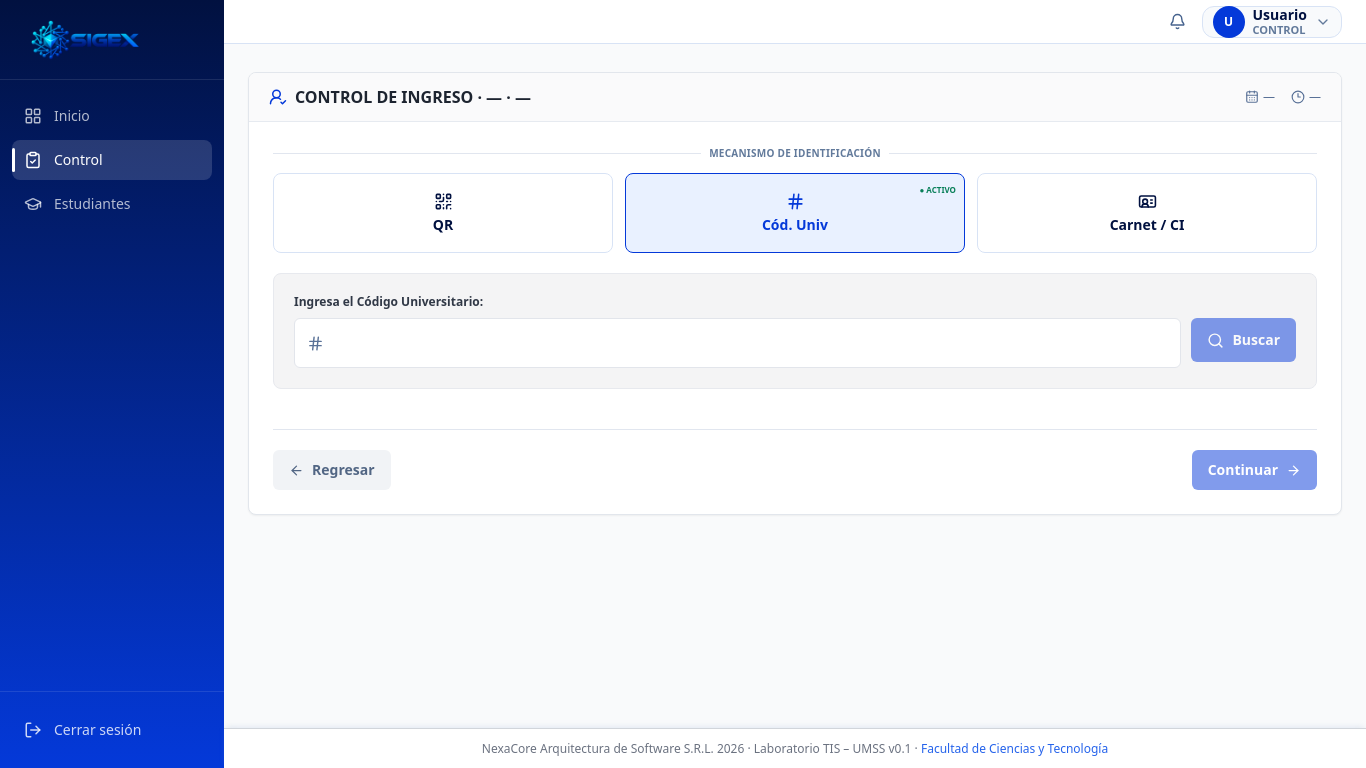
Test: IdentificacionPage › DESHABILITADO muestra el badge "NO HABILITADO" y habilita Continuar
In the field labelled "Ingresa el Código Universitario:": (751, 343) [334,319,1168,367], type "202104010"
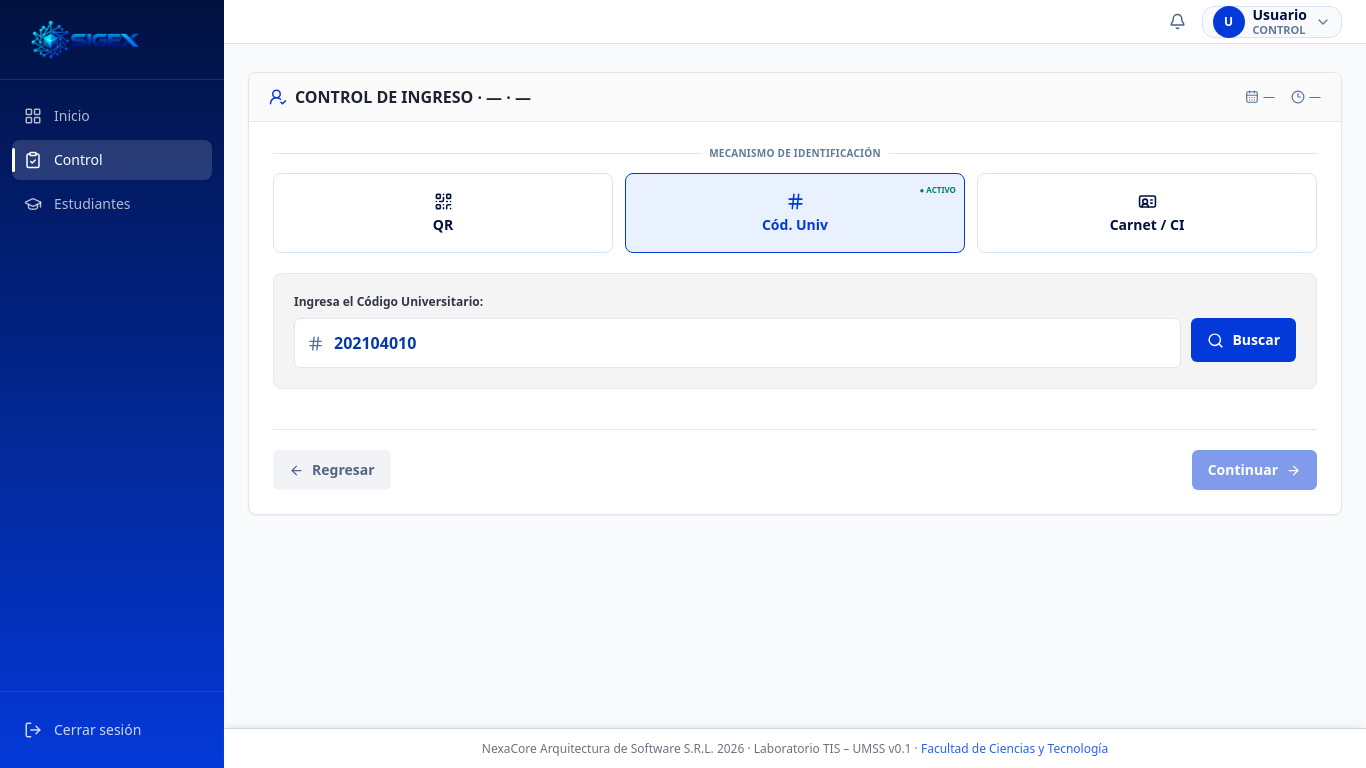
Click the button "Buscar": (1244, 340) [1191,318,1296,362]
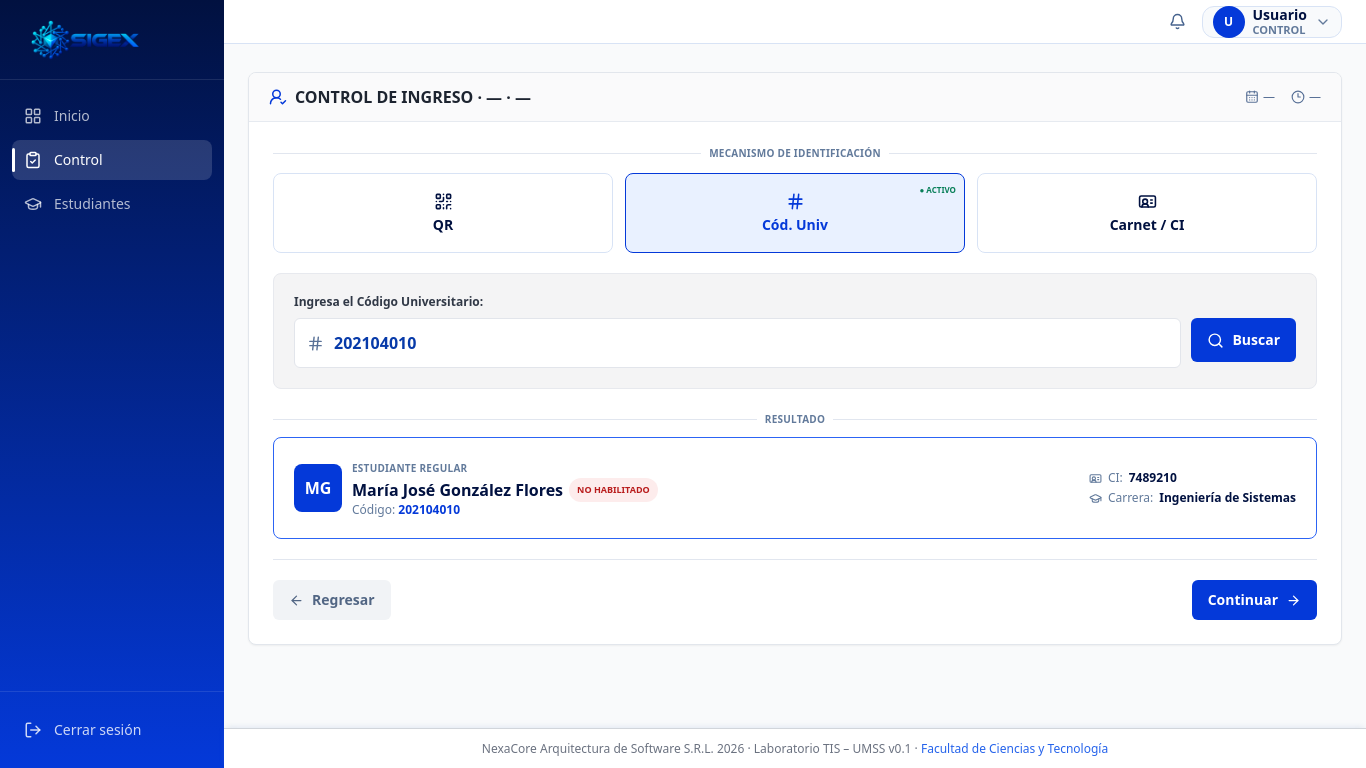
Check: the text "María José González Flores" is shown, box [352,478,563,502]
Check: the text "NO HABILITADO" is shown, box [569,478,658,502]
Check: the text "Ingeniería de Sistemas" is shown, box [1159,490,1296,506]
